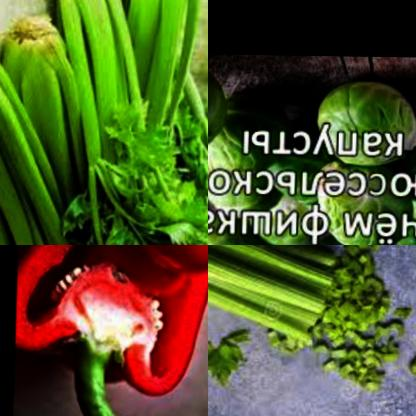bell pepper: (15, 245, 208, 416)
brus capusta: (310, 83, 416, 170), (261, 152, 330, 245), (322, 179, 414, 245), (208, 86, 268, 177), (208, 199, 274, 245)
celery: (34, 0, 208, 245), (0, 6, 157, 245), (0, 25, 101, 245), (112, 0, 208, 216), (313, 245, 416, 404), (208, 245, 342, 348), (208, 300, 255, 385), (259, 318, 313, 359)
